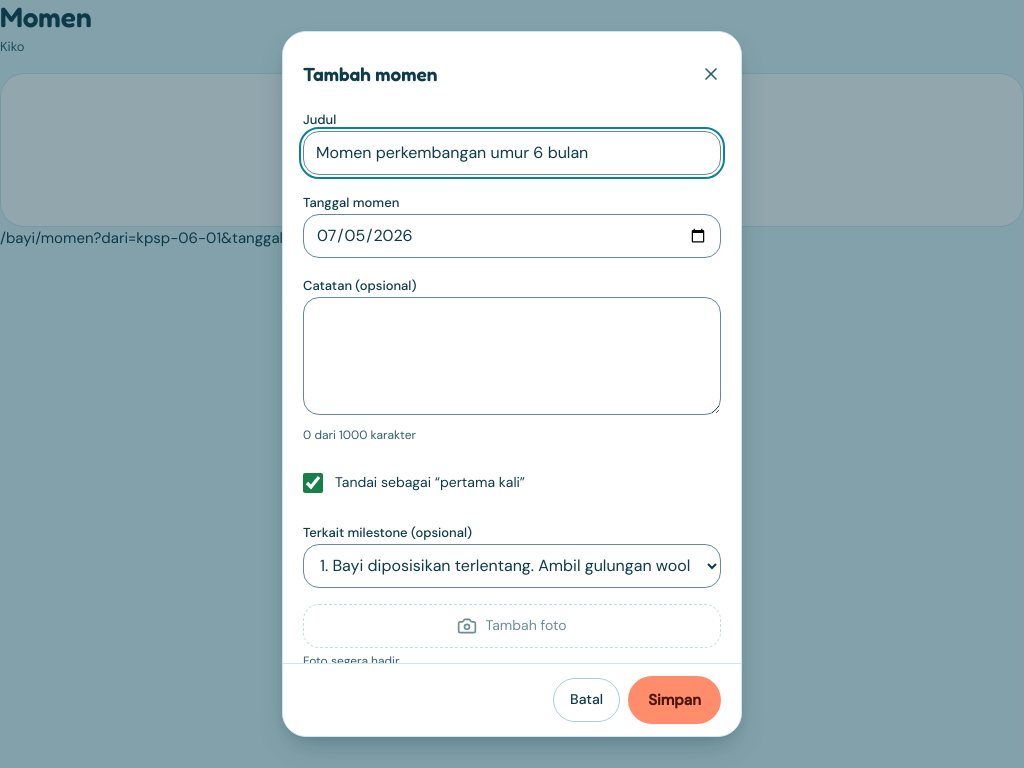
Test: MomenPage: pengendalian lembar lewat URL › dari milestone: ?dari dan ?tanggal membuka form terisi, dan hilang bersama setelah disimpan
Expected: the field labelled "Judul" holds "Momen perkembangan umur 6 bulan", x1=303 y1=131 x2=721 y2=175
Expected: the date field labelled "Tanggal momen" holds "2026-07-05", x1=303 y1=214 x2=721 y2=258
Click the button "Simpan". click: (675, 700)
box: x1=628 y1=676 x2=721 y2=724
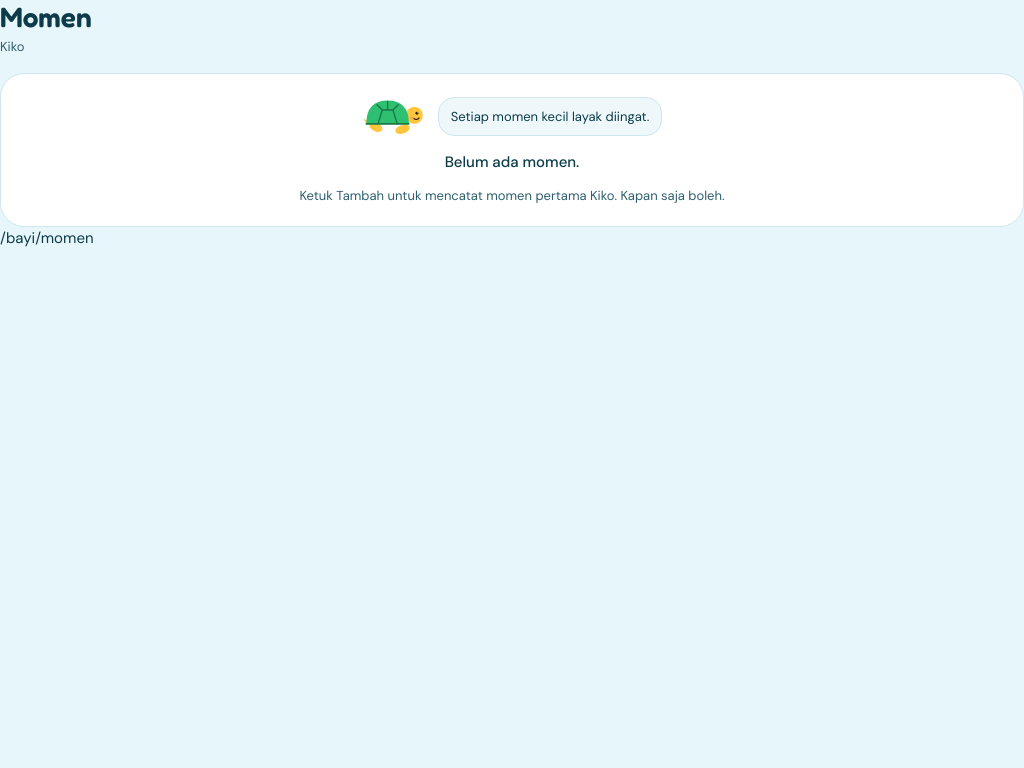
Now the text with test id "lokasi" reads "/bayi/momen", box x1=0 y1=228 x2=94 y2=248
